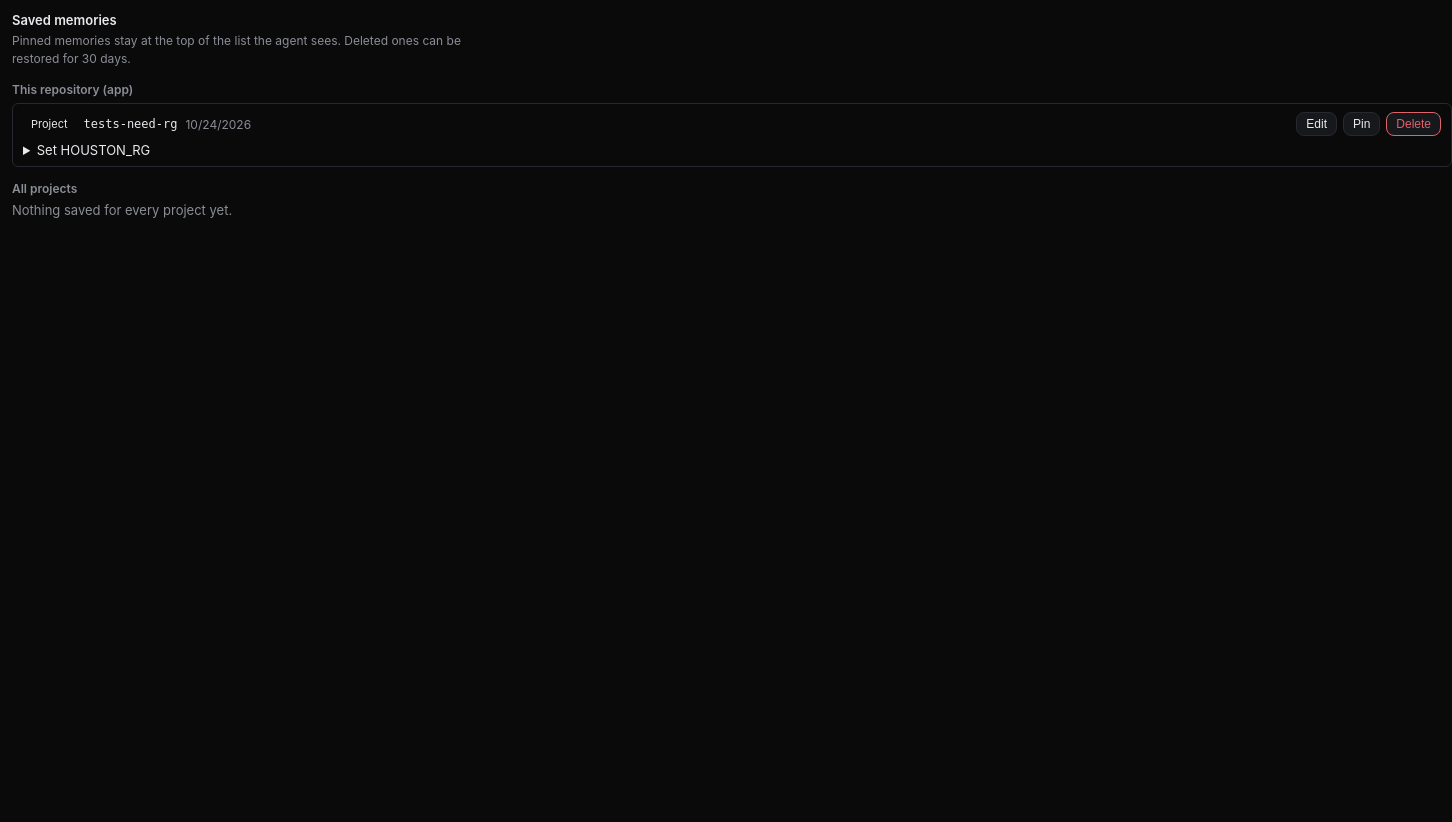
MemoriesSection › keeps the editor open and shows why when an edit is refused
Click the button with aria-label "Edit memory tests-need-rg": (1317, 124) 1296,112 -> 1337,136
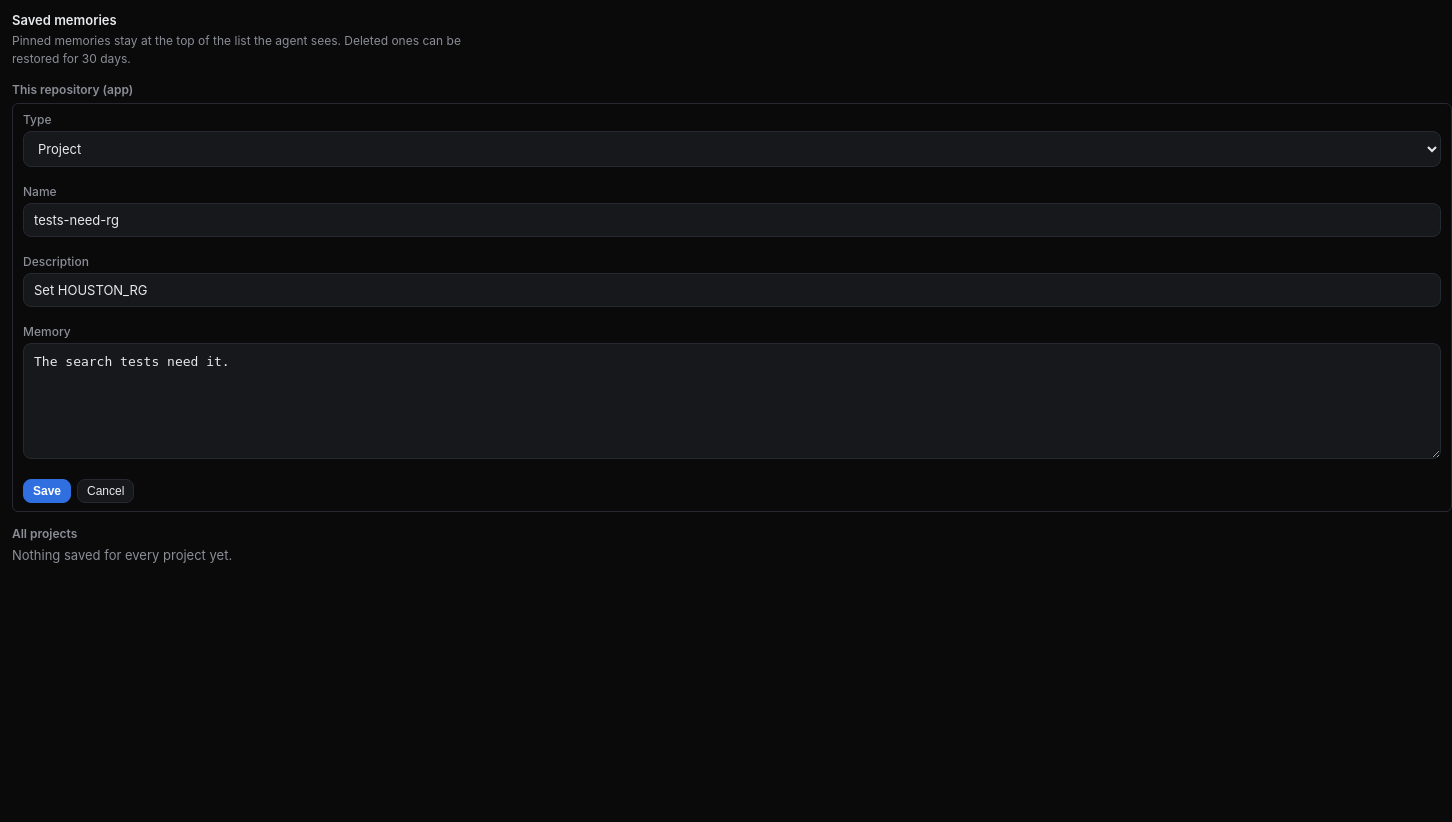
Click the button "Save": (47, 490) 23,478 -> 71,502
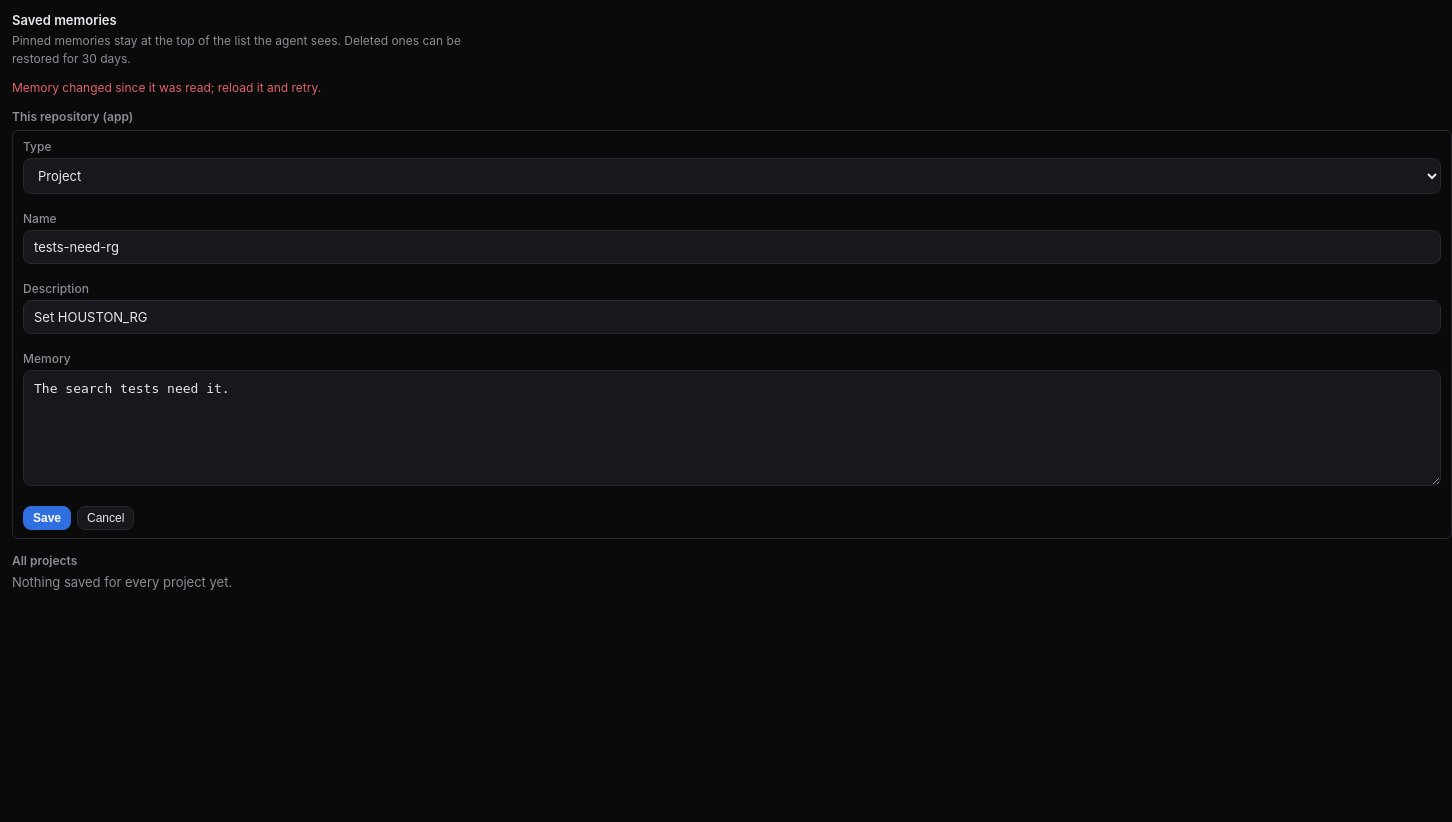
Expected: the text box labelled "Memory" is shown, 23,370 -> 1441,486
Expected: the text "Memory changed since it was read; reload it and retry." is shown, 12,80 -> 321,95
